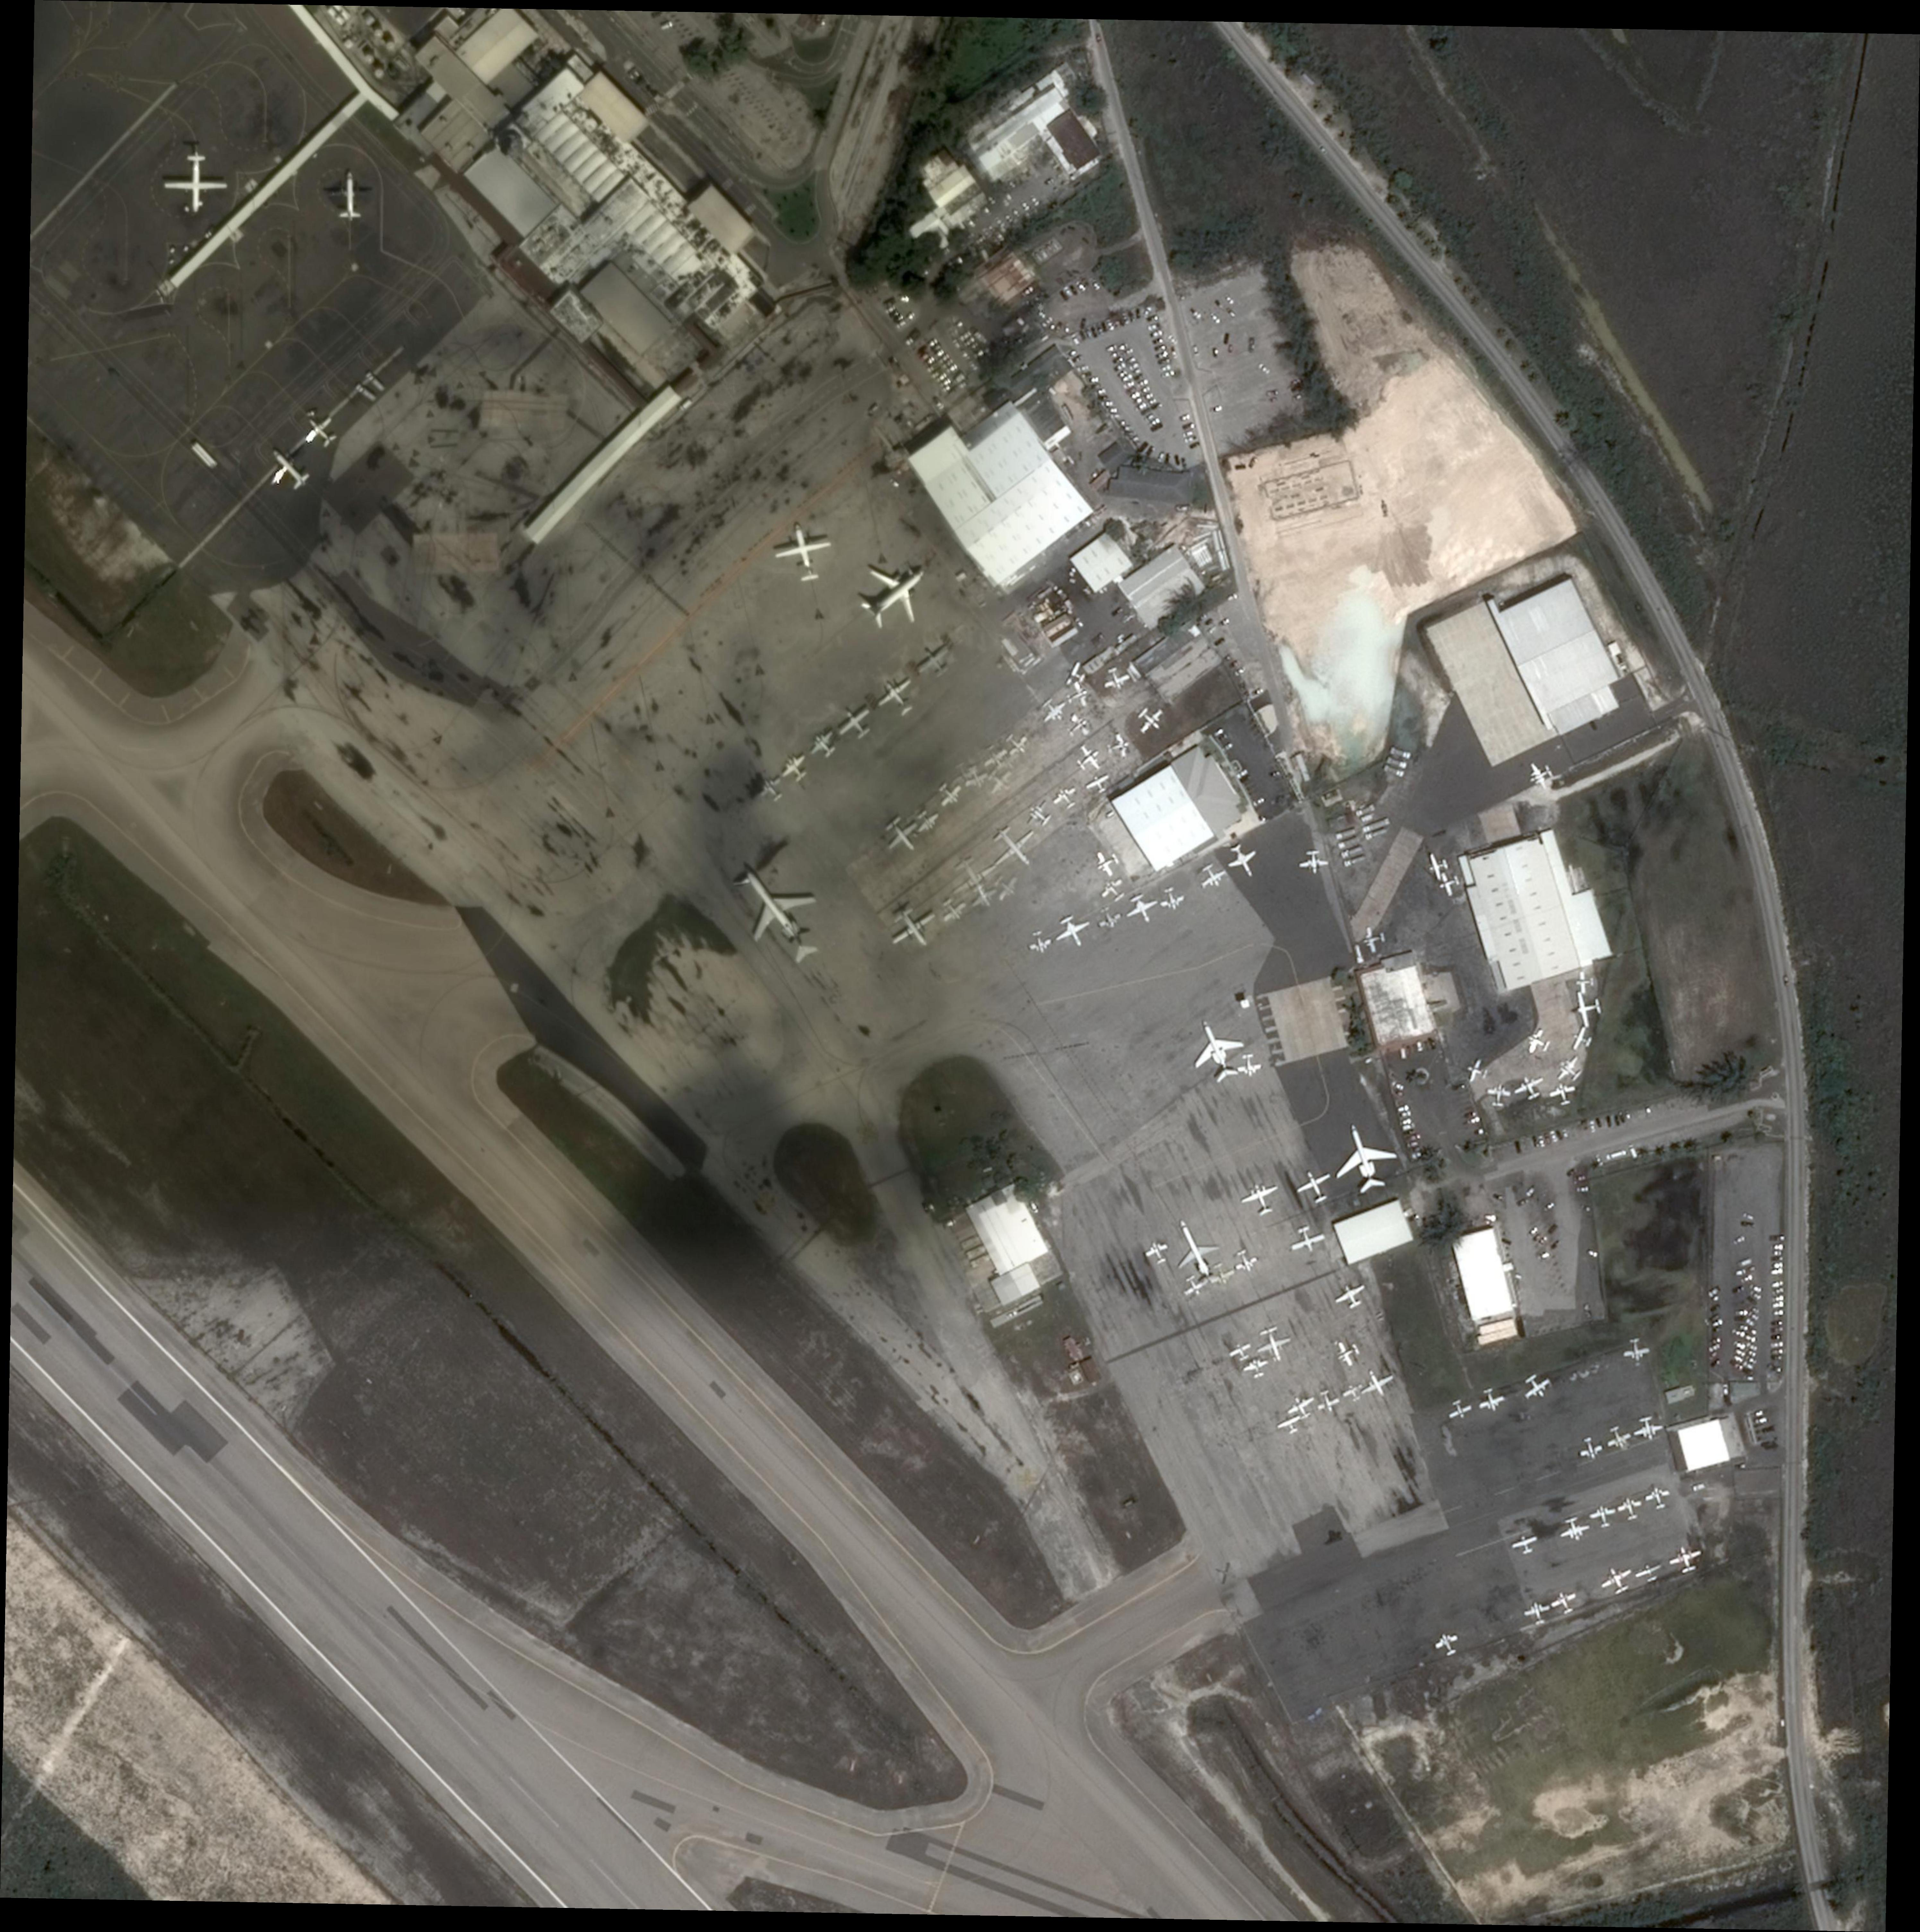plane: (719, 844, 840, 977), (846, 545, 944, 642), (1320, 1116, 1405, 1199), (1180, 1011, 1254, 1088), (1162, 1211, 1231, 1292), (770, 519, 839, 585), (981, 816, 1050, 881), (257, 438, 322, 501), (164, 151, 229, 214), (883, 898, 946, 958), (942, 847, 1002, 904), (870, 672, 925, 723), (325, 165, 375, 220), (879, 810, 927, 861), (832, 700, 877, 747), (1291, 1164, 1340, 1208), (911, 638, 956, 684), (1050, 911, 1097, 955), (299, 410, 343, 454), (1352, 1362, 1400, 1403), (1238, 1180, 1285, 1220), (1220, 840, 1264, 882), (1252, 1326, 1296, 1366), (1122, 890, 1164, 928), (1131, 700, 1169, 740), (1285, 1222, 1327, 1259), (1517, 1368, 1556, 1406), (1596, 1561, 1637, 1598), (981, 763, 1020, 800), (804, 726, 842, 763), (1331, 1278, 1371, 1313), (1071, 740, 1108, 777), (1665, 1542, 1705, 1575), (777, 751, 814, 786), (932, 777, 967, 812), (988, 868, 1023, 904), (754, 772, 789, 807), (1036, 693, 1071, 728), (1553, 1051, 1588, 1086), (1524, 756, 1558, 793), (1284, 1391, 1320, 1424), (1570, 990, 1604, 1027), (935, 893, 971, 926), (1196, 860, 1231, 893), (1521, 1025, 1554, 1060), (967, 879, 1000, 912), (1097, 874, 1131, 907), (1025, 796, 1057, 832), (1512, 1072, 1547, 1104), (1556, 1514, 1593, 1543), (1521, 1596, 1554, 1628), (1000, 728, 1034, 759), (911, 805, 944, 837), (1090, 847, 1124, 879), (1062, 710, 1094, 744), (1141, 1236, 1175, 1267), (1333, 1336, 1364, 1369), (1602, 1422, 1635, 1454), (979, 742, 1011, 774), (1549, 1587, 1582, 1617), (1050, 784, 1083, 814), (1475, 1385, 1509, 1415), (1178, 1271, 1211, 1301), (1588, 1501, 1619, 1531), (1431, 1630, 1463, 1660), (1614, 1493, 1646, 1522), (1094, 904, 1125, 933), (1231, 1246, 1262, 1276), (1104, 730, 1134, 761), (1023, 928, 1057, 956), (1632, 1415, 1665, 1443), (1204, 1260, 1238, 1289), (962, 761, 992, 791), (1101, 665, 1132, 693), (1567, 1023, 1595, 1055), (1633, 1559, 1667, 1586), (1062, 659, 1090, 689), (1064, 680, 1092, 710), (1575, 1434, 1605, 1463), (1463, 1057, 1491, 1086), (1642, 1485, 1674, 1512), (1510, 1531, 1542, 1558), (1083, 770, 1115, 796), (1444, 1398, 1475, 1424), (1547, 1081, 1579, 1108), (1424, 853, 1452, 881), (1211, 1561, 1241, 1587), (948, 759, 978, 786), (1157, 886, 1187, 912), (1225, 1338, 1255, 1364), (1275, 1412, 1305, 1438), (1361, 925, 1387, 955), (1621, 1338, 1653, 1362), (1315, 1389, 1343, 1415), (1436, 870, 1463, 898), (1241, 1355, 1271, 1380), (1299, 851, 1329, 874), (1342, 1380, 1368, 1405), (1486, 1081, 1512, 1106), (1236, 1053, 1262, 1078), (1575, 970, 1595, 993)
